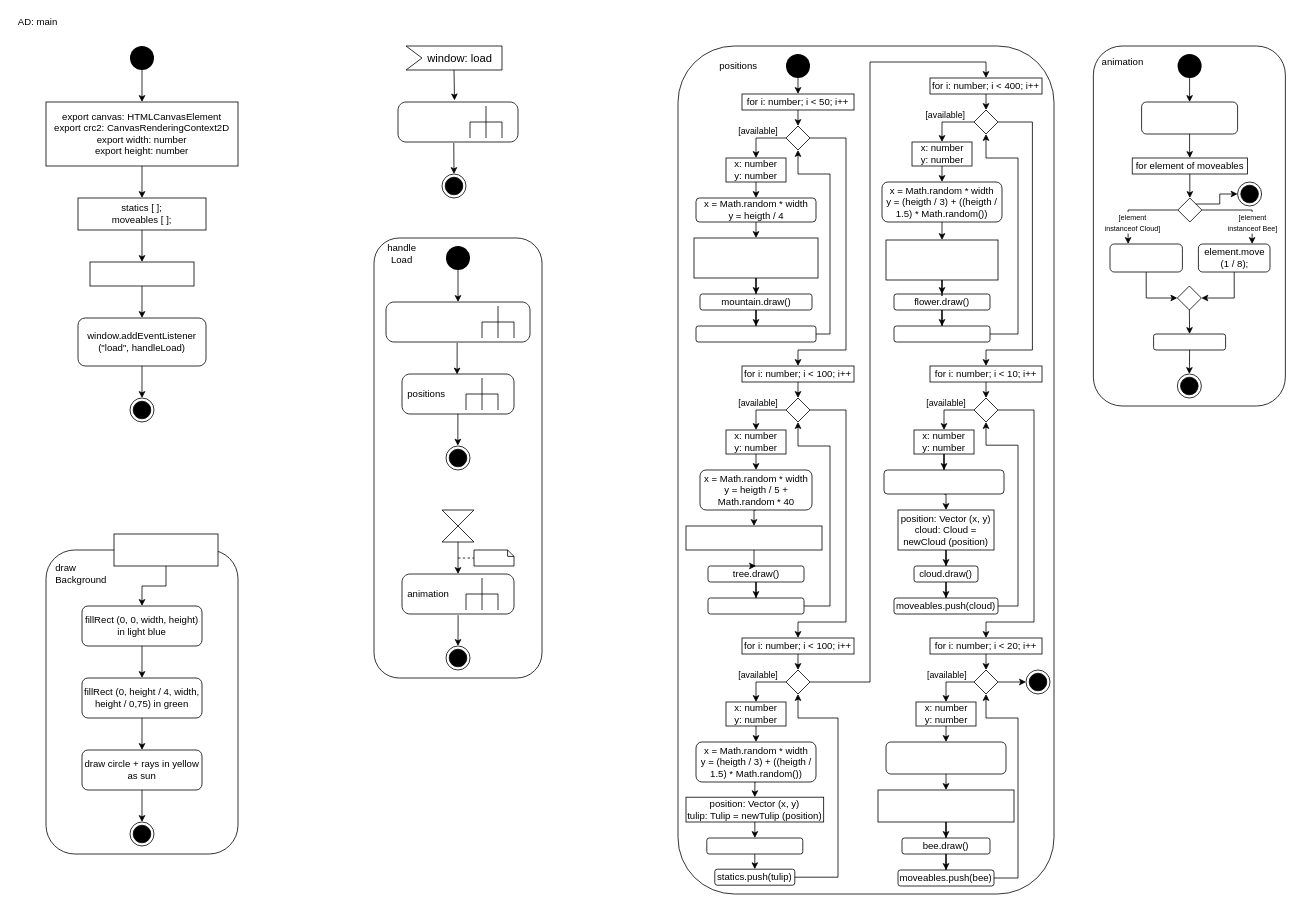
Image size: 1299x908. Some labels were removed from this diagram. The shapes that lost their labels are listed below. From the top down, each one's centre as x and y in pixels, then its label:
At [457,121]: "handleLoad".
At [1189,117]: "crc2.putImageData (imgData, 0, 0)".
At [141,273]: "imgData: ImageData".
At [755,257]: "position: Vector (x, y) mountain: Mountain = newMountain (position)".
At [941,259]: "position: Vector (x, y) flower: Flower = newFlower (position)".
At [1145,257]: "element.move (1 / 10);".
At [457,321]: "drawBackground (canvas)".
At [755,333]: "statics.push(mountain)".
At [941,333]: "statics.push(flower)".
At [1189,341]: "element.draw();".
At [943,481]: "x = Math.random * width y = 0 + Math.random * 50".
At [165,549]: "_canvas: HTMLCanvasElement".
At [493,557]: "30ms".
At [753,537]: "position: Vector (x, y) tree: Tree = newTree (position)".
At [755,605]: "statics.push(tree)".
At [945,757]: "x = Math.random * width y = Math.random * height".
At [945,805]: "position: Vector (x, y) bee: Bee = newBee (position)".
At [754,845]: "tulip.draw()".
